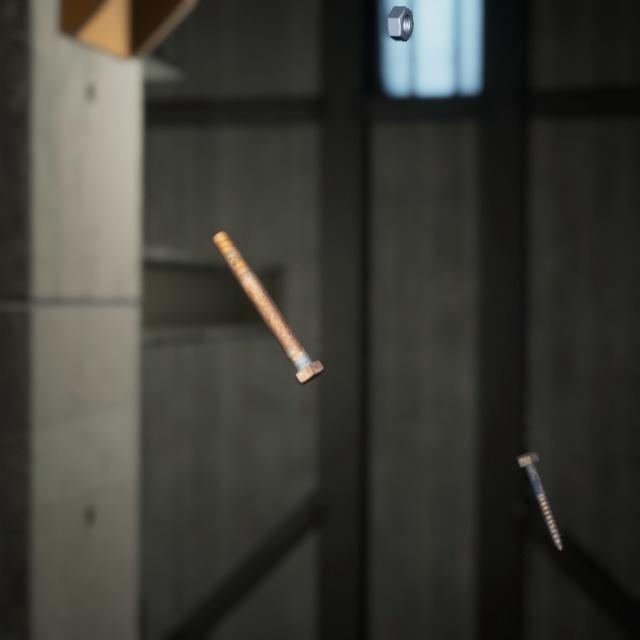bolt: (207, 208, 328, 371), (510, 425, 567, 533), (502, 617, 540, 640)
nut: (383, 0, 418, 38)
